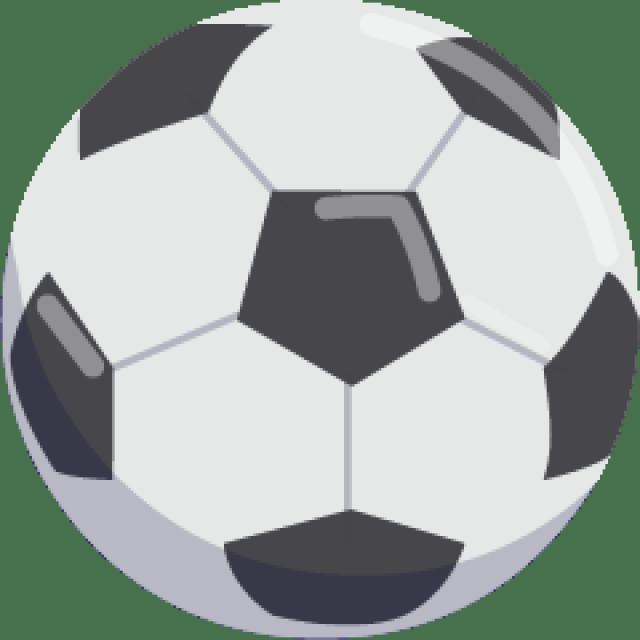soccer ball: (5, 0, 634, 637)
